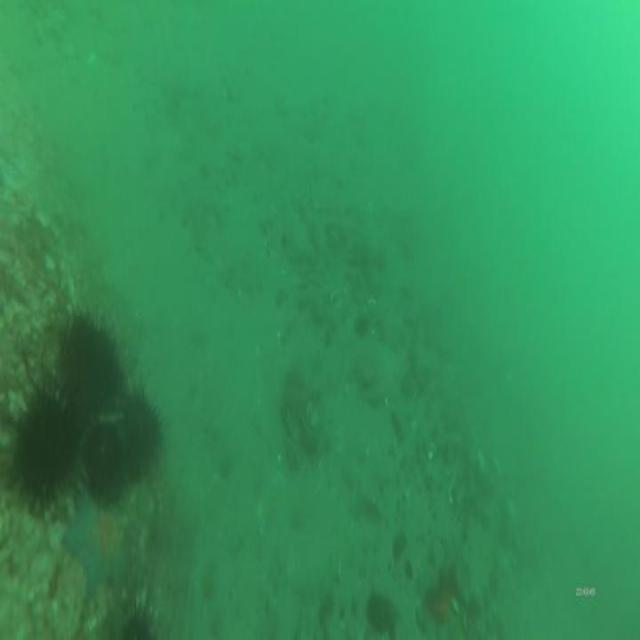echinus: (5, 386, 87, 510), (52, 308, 122, 405), (108, 387, 164, 485), (80, 411, 132, 504), (112, 602, 158, 640)
starfish: (61, 490, 135, 605)
